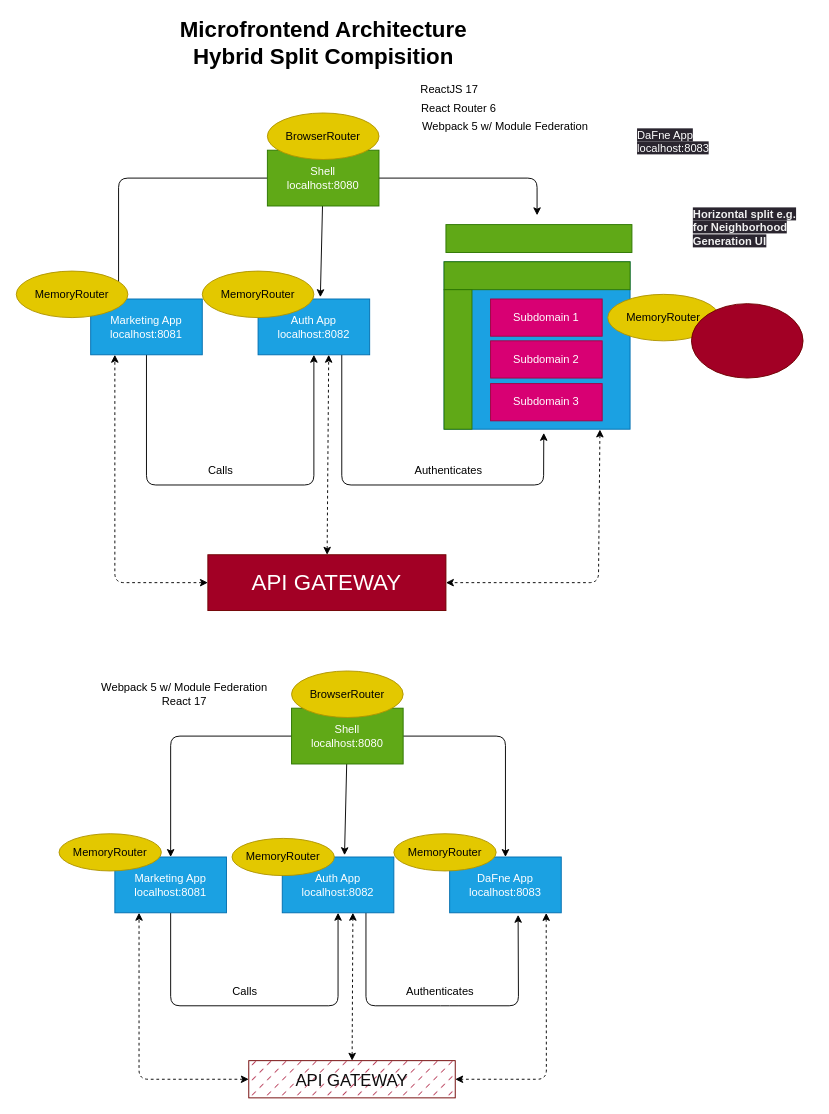
This 829x1114 diagram has some shape labels left out. Each missing label, with the centre of its shape:
"Alle MFES connection zu gateway?" belongs at (x=747, y=340).
"DaFneApp: Application Shell" belongs at (x=538, y=238).
"Header" belongs at (x=536, y=275).
"Navigation" belongs at (x=457, y=359).
